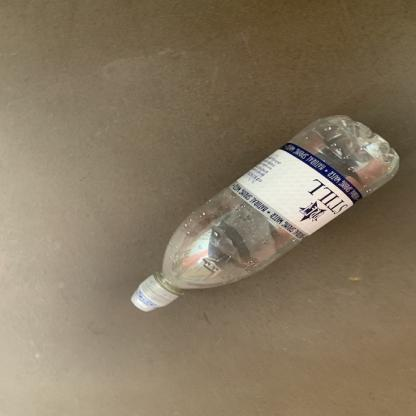trash: (129, 109, 402, 313)
